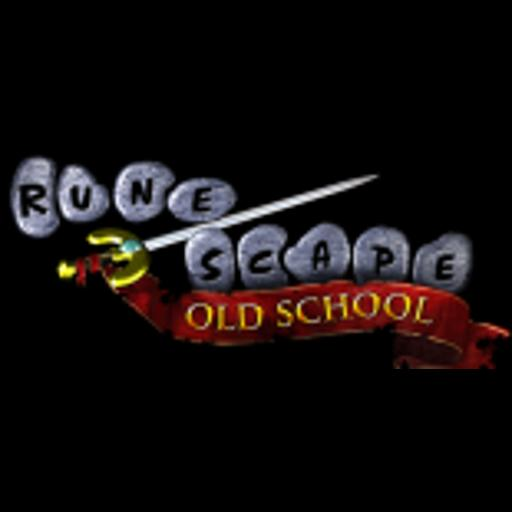RuneScape: (0, 142, 512, 369)
